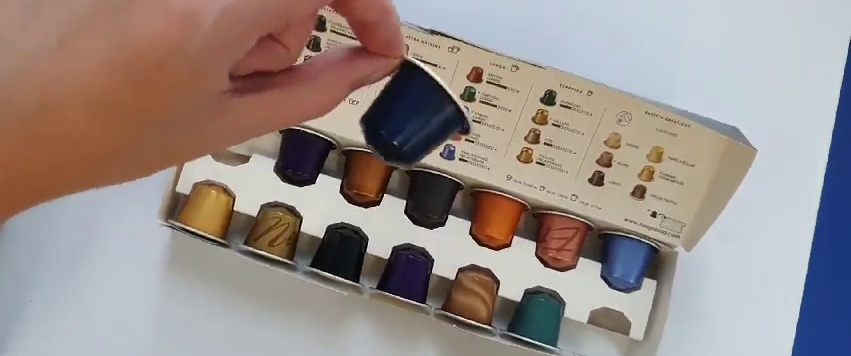capsule_1: (361, 57, 476, 168)
